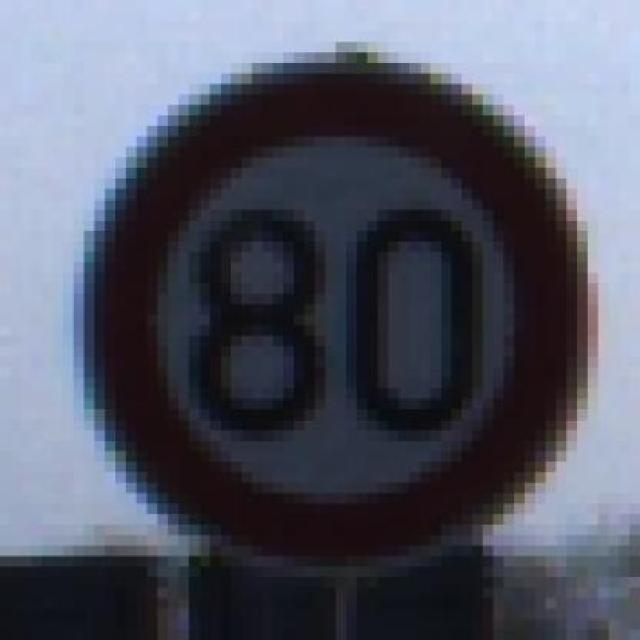forb_speed_over_80: (97, 71, 589, 568)
